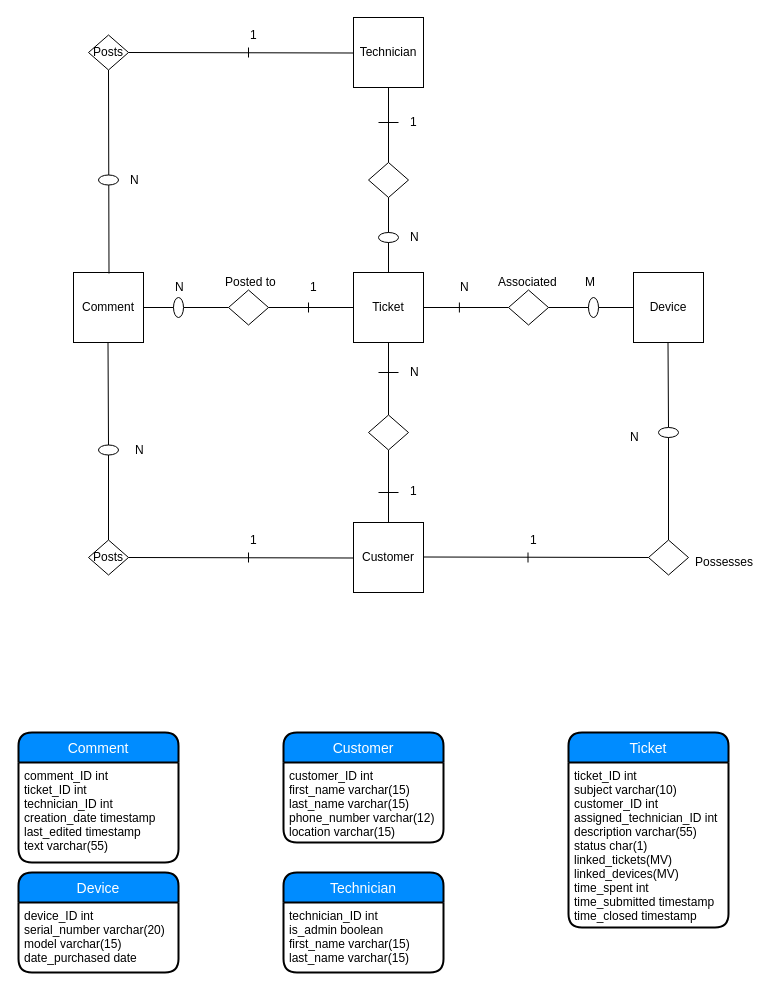
Some shapes in this 780 by 991 pixel diagram are drawn without their labels. The box of each missing label's shape, as (x1, y1, x2, y2) in pixels:
Assigned: (368, 162, 408, 198)
Has: (368, 414, 408, 450)
